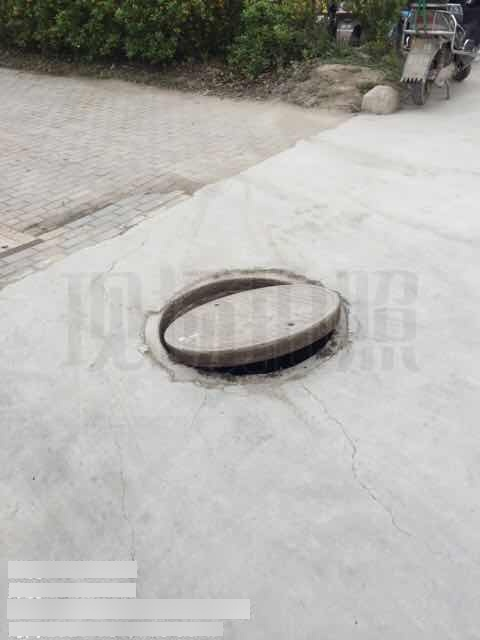uncovered: (145, 270, 353, 387)
